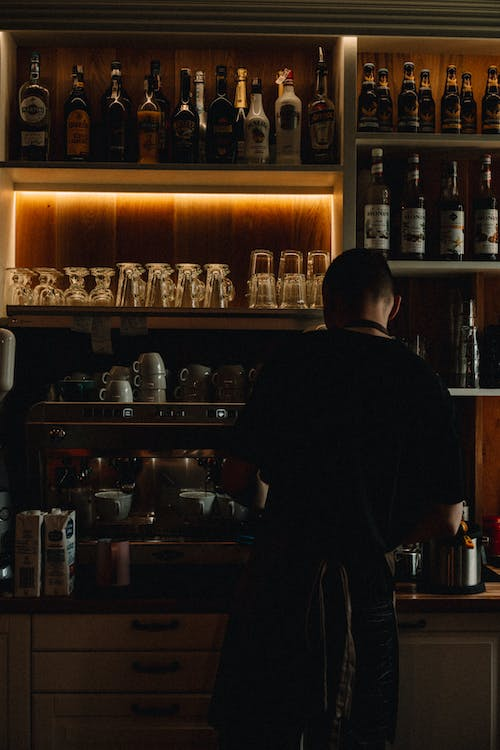alcohol: (14, 47, 53, 162), (360, 148, 395, 260), (96, 58, 134, 161), (432, 157, 467, 260), (395, 152, 428, 260), (61, 63, 94, 161), (205, 64, 237, 164), (305, 61, 336, 164), (472, 151, 500, 261), (272, 68, 303, 165), (171, 67, 201, 162), (134, 74, 164, 164), (243, 75, 270, 164), (147, 57, 169, 161), (395, 59, 421, 131), (233, 66, 251, 163), (357, 60, 381, 130), (439, 62, 463, 132), (480, 65, 500, 134), (377, 65, 395, 130), (191, 69, 209, 131), (420, 68, 436, 131), (462, 71, 478, 133)
